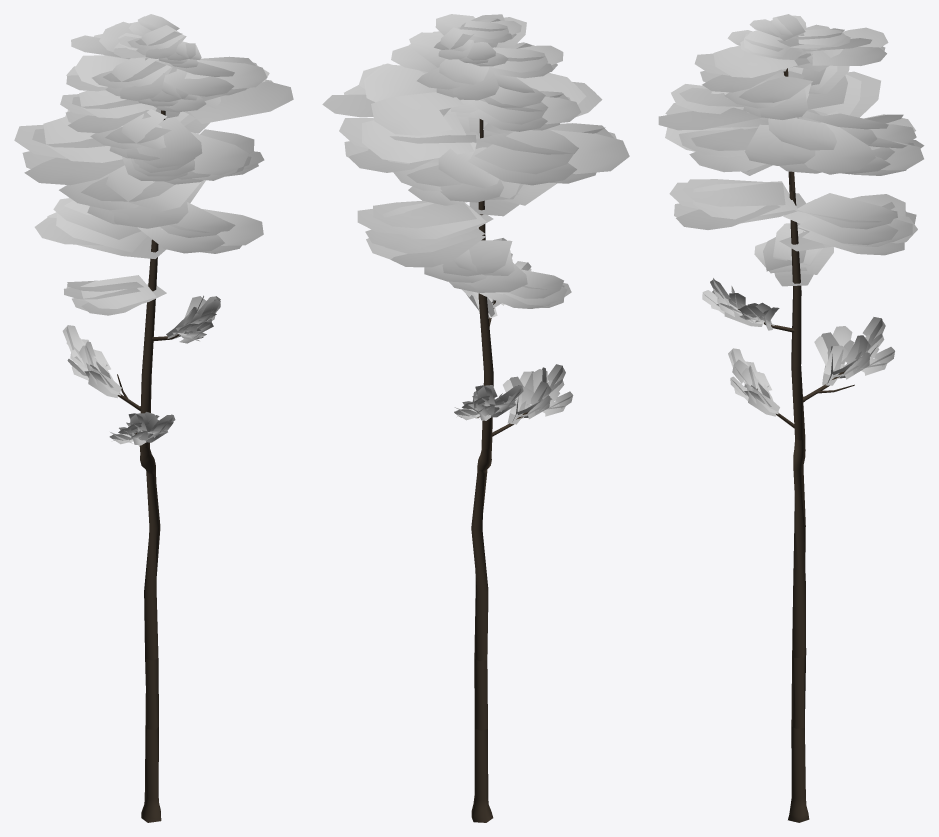
Rendered from LODPine_L.A.X1.fbx.
The picture shows the model from 3 angles, left to right: view 1: azimuth 30°, elevation 25°; view 2: azimuth 150°, elevation 25°; view 3: azimuth 270°, elevation 25°; orthographic projection.
Visible parts, largest first — view 1: Pine_L_A_X1; view 2: Pine_L_A_X1; view 3: Pine_L_A_X1.
Part boxes in pixels (left/top/right/bottom): Pine_L_A_X1: left=14, top=14, right=293, bottom=822; Pine_L_A_X1: left=322, top=14, right=629, bottom=822; Pine_L_A_X1: left=658, top=14, right=924, bottom=822.
Bounding box in the file's own units: 746 × 2127 × 644.
